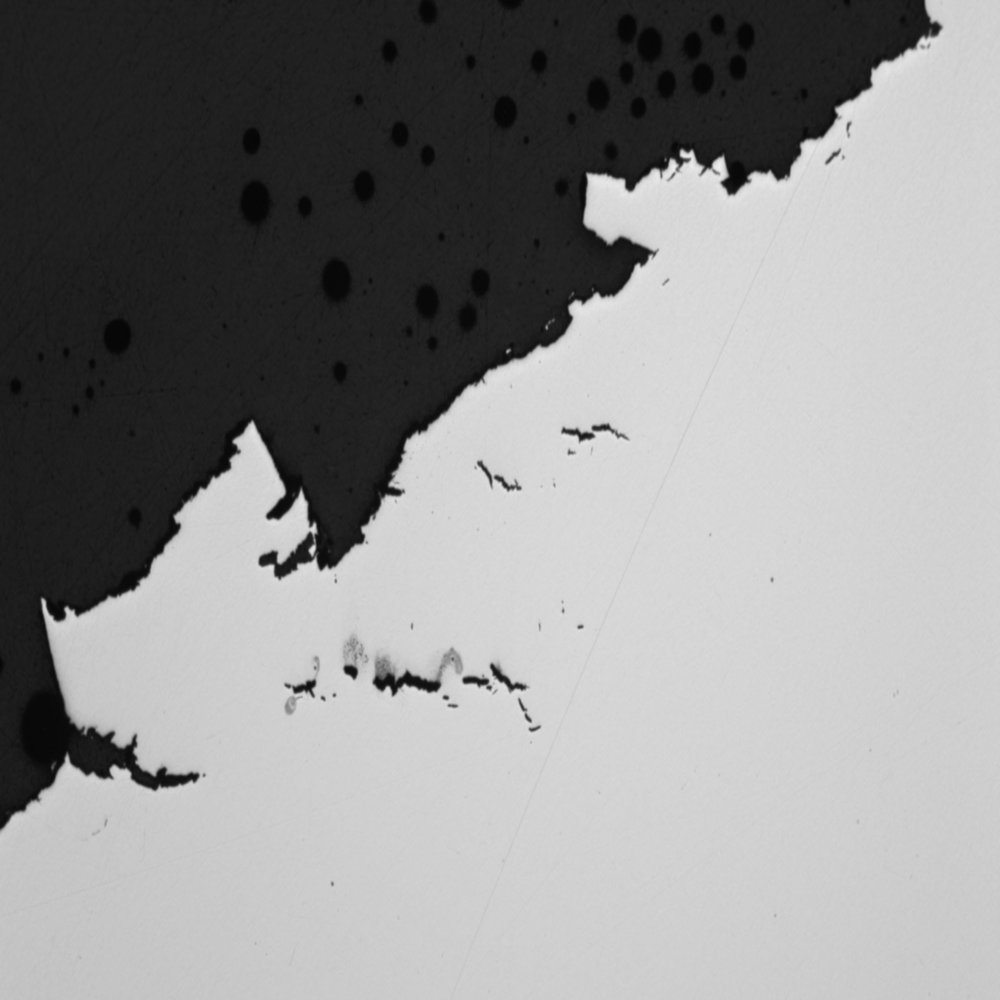crack: (242, 407, 435, 585), (274, 631, 566, 728), (40, 707, 206, 828), (449, 441, 536, 506), (554, 412, 641, 449)
